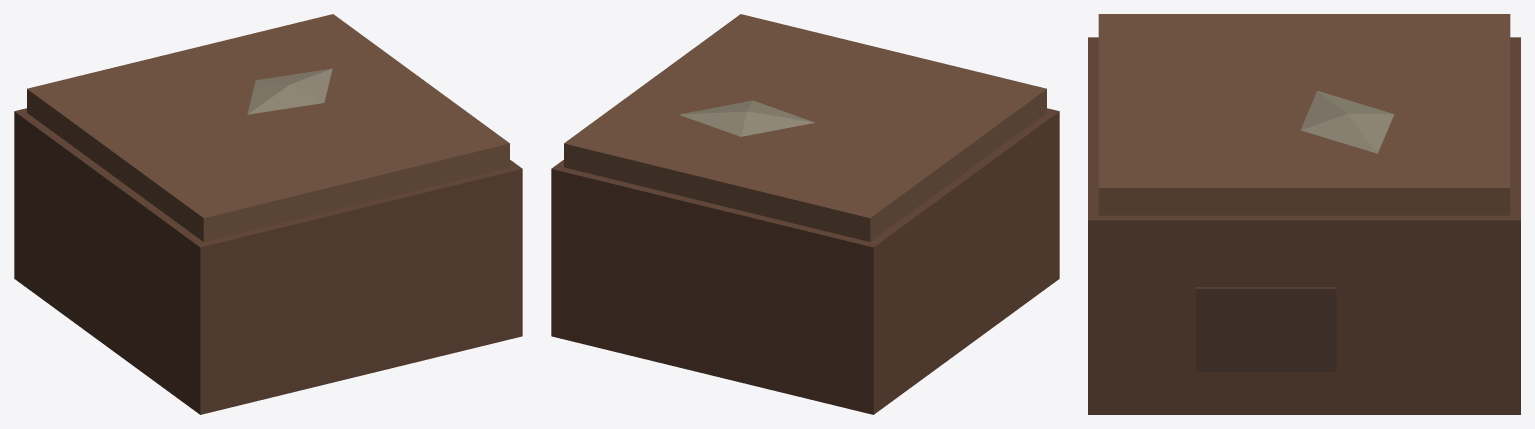
Rendered from pile-mud-1.gltf.
The picture shows the model from 3 angles, left to right: view 1: azimuth 30°, elevation 25°; view 2: azimuth 150°, elevation 25°; view 3: azimuth 270°, elevation 25°; orthographic projection. The views are drawn at different scales.
Visible parts, largest first — view 1: pile-mud-1; view 2: pile-mud-1; view 3: pile-mud-1.
Part boxes in pixels (x1,y1,x2,y2): pile-mud-1: [14, 14, 522, 414]; pile-mud-1: [551, 14, 1059, 414]; pile-mud-1: [1088, 14, 1520, 414].
Size of the model in its own units: 0.285 by 0.167 by 0.282.
